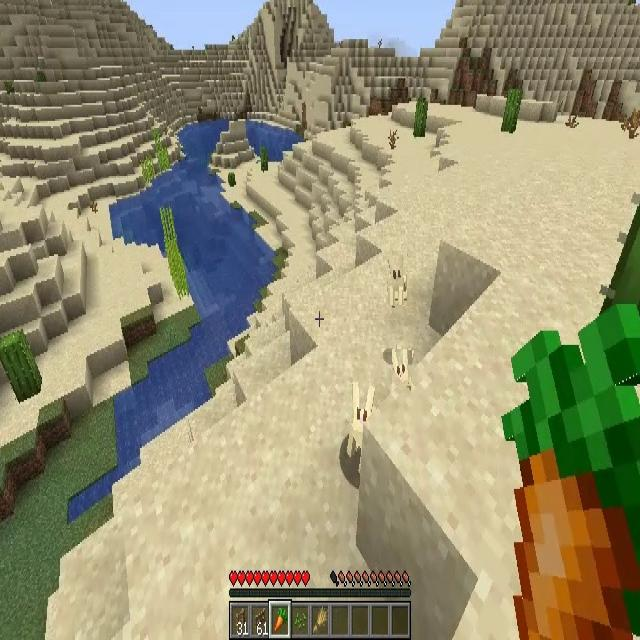rabbit: (350, 382, 374, 460), (388, 255, 407, 305), (392, 349, 412, 391)
